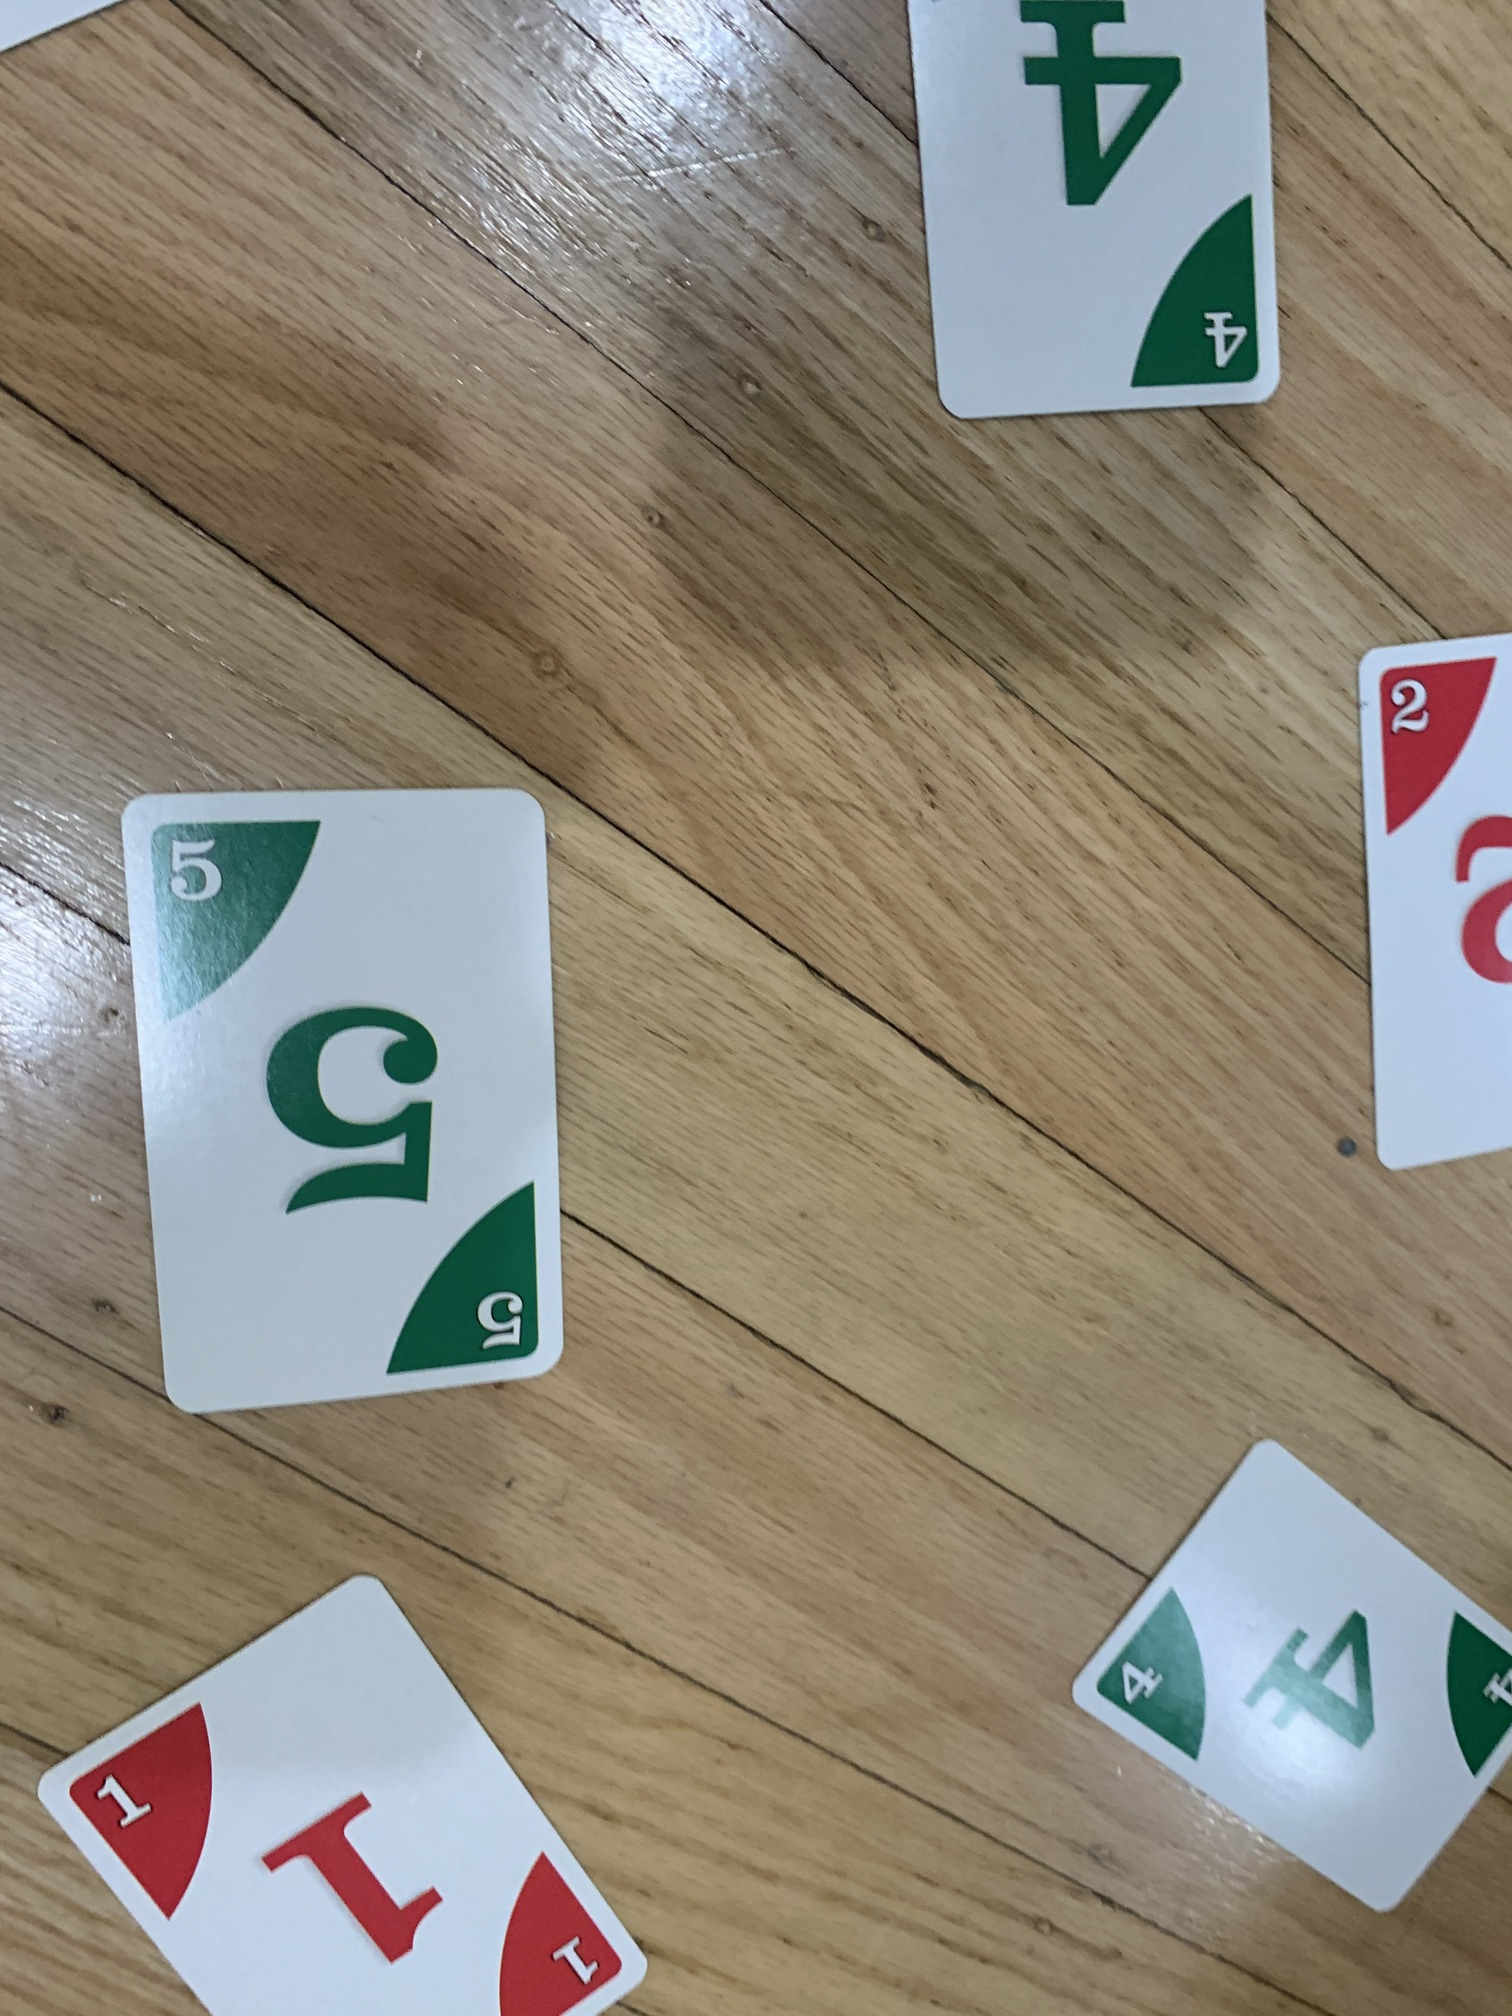five: (113, 787, 575, 1421)
four: (1075, 1432, 1512, 1924), (883, 2, 1301, 430)
one: (40, 1570, 653, 2016)
